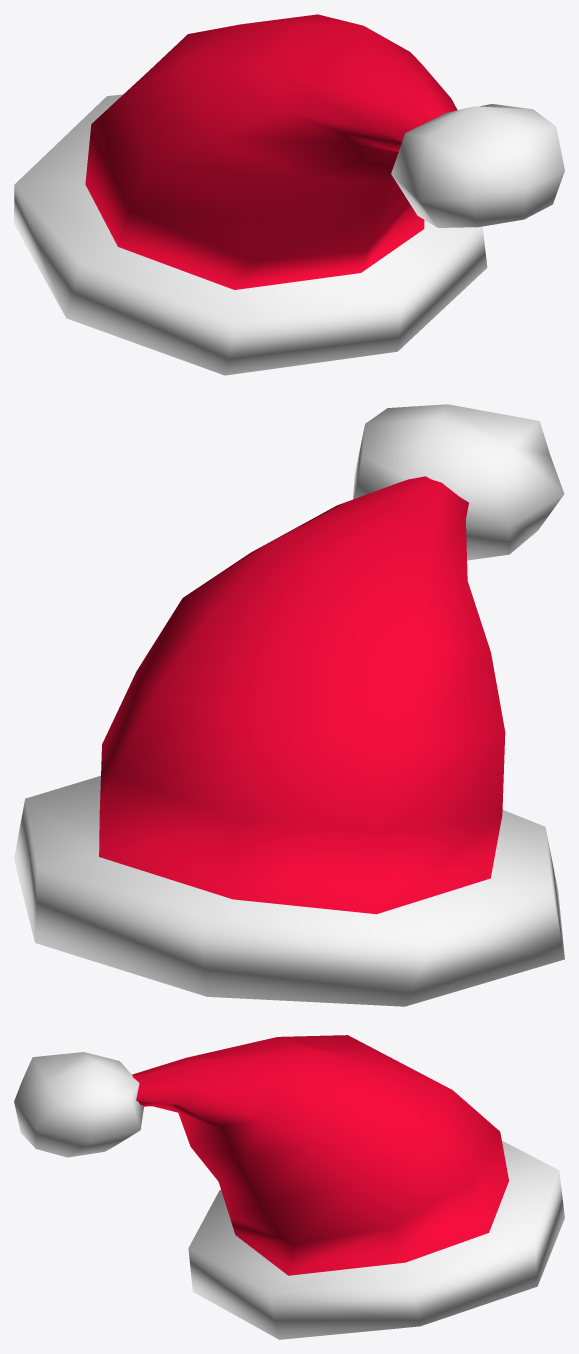
File: item-santa-hat.glb
3 views of the same model, one above another, from view 1: azimuth 30°, elevation 25°; view 2: azimuth 150°, elevation 25°; view 3: azimuth 270°, elevation 25° (orthographic). The views are drawn at different scales.
Bounding box in the file's own units: 0.2441 × 0.1652 × 0.3486.
